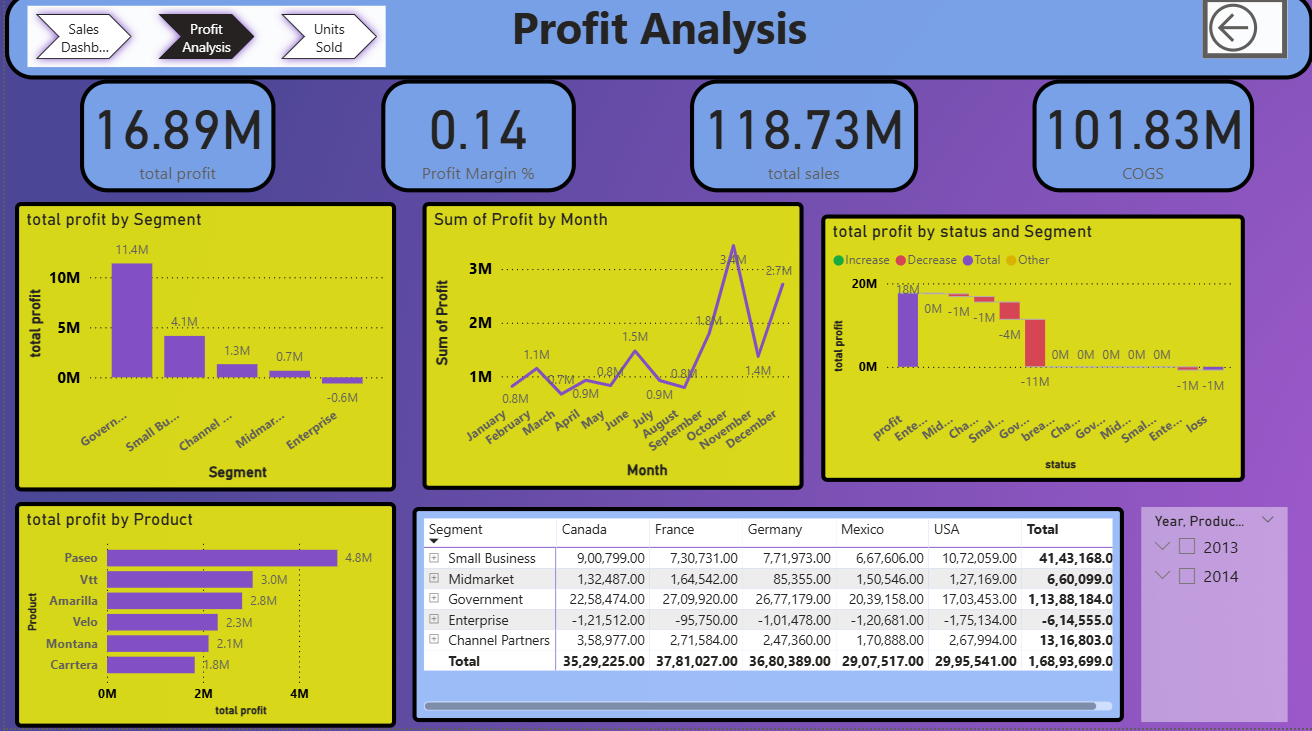

This screenshot's page, from the dashboard's own definition file:
{"tool":"powerbi","page":{"name":"Profit Analysis","canvas":[1280,720],"ordinal":1},"visuals":[{"type":"textbox","box":[0,0,1280,85.7],"z":0},{"type":"actionButton","box":[1171.4,4.3,82.9,60],"z":1000},{"type":"card","fields":{"Values":["Financial Data.total profit"]},"box":[72.9,85.7,191.4,110],"z":2000},{"type":"card","fields":{"Values":["Financial Data.Profit Margin %"]},"box":[368.6,85.7,190,110],"z":3000},{"type":"card","fields":{"Values":["Financial Data.total sales"]},"box":[670,85.7,222.9,110],"z":4000},{"type":"card","fields":{"Values":["Financial Data.COGS"]},"box":[1005.7,85.7,217.1,110],"z":5000},{"type":"lineChart","fields":{"Category":["Financial Data.Date.Variation.Date Hierarchy.Month"],"Y":["Sum(Financial Data.Profit)"]},"box":[408.6,205.7,372.9,281.4],"z":6000},{"type":"columnChart","fields":{"Category":["Financial Data.Segment"],"Y":["Financial Data.total profit"]},"box":[10,205.7,372.9,282.9],"z":7000},{"type":"barChart","fields":{"Category":["Financial Data.Product"],"Y":["Financial Data.total profit"]},"box":[10,499,373,221],"z":8000},{"type":"pivotTable","fields":{"Rows":["Financial Data.Segment","Financial Data.status "],"Columns":["Financial Data.country"],"Values":["Financial Data.total profit"]},"box":[398.6,504.3,695.7,210],"z":9000},{"type":"waterfallChart","fields":{"Category":["Financial Data.status "],"Breakdown":["Financial Data.Segment"],"Y":["Financial Data.total profit"]},"box":[798.6,217.1,414.3,261.4],"z":10000},{"type":"slicer","fields":{"Values":["Financial Data.Date.Variation.Date Hierarchy.Year","Financial Data.Product","Financial Data.status "]},"box":[1111.4,504.3,142.9,210],"z":11000},{"type":"pageNavigator","box":[21.4,12.9,350,60],"z":11001}]}

Visuals, with their boxes in screenshot pixels (x1, y1, x2, y2), scaled from the page's 1280x720 canvas onto the 1312x731 screenshot:
textbox: BBox(0, 0, 1311, 87)
actionButton: BBox(1201, 4, 1286, 65)
card - Financial Data.total profit: BBox(75, 87, 271, 199)
card - Financial Data.Profit Margin %: BBox(378, 87, 573, 199)
card - Financial Data.total sales: BBox(687, 87, 915, 199)
card - Financial Data.COGS: BBox(1031, 87, 1253, 199)
lineChart - Financial Data.Date.Variation.Date Hierarchy.Month x Sum(Financial Data.Profit): BBox(419, 209, 801, 495)
columnChart - Financial Data.Segment x Financial Data.total profit: BBox(10, 209, 392, 496)
barChart - Financial Data.Product x Financial Data.total profit: BBox(10, 507, 393, 730)
pivotTable - Financial Data.Segment x Financial Data.status : BBox(409, 512, 1122, 725)
waterfallChart - Financial Data.status  x Financial Data.Segment: BBox(819, 220, 1243, 486)
slicer - Financial Data.Date.Variation.Date Hierarchy.Year x Financial Data.Product: BBox(1139, 512, 1286, 725)
pageNavigator: BBox(22, 13, 381, 74)
